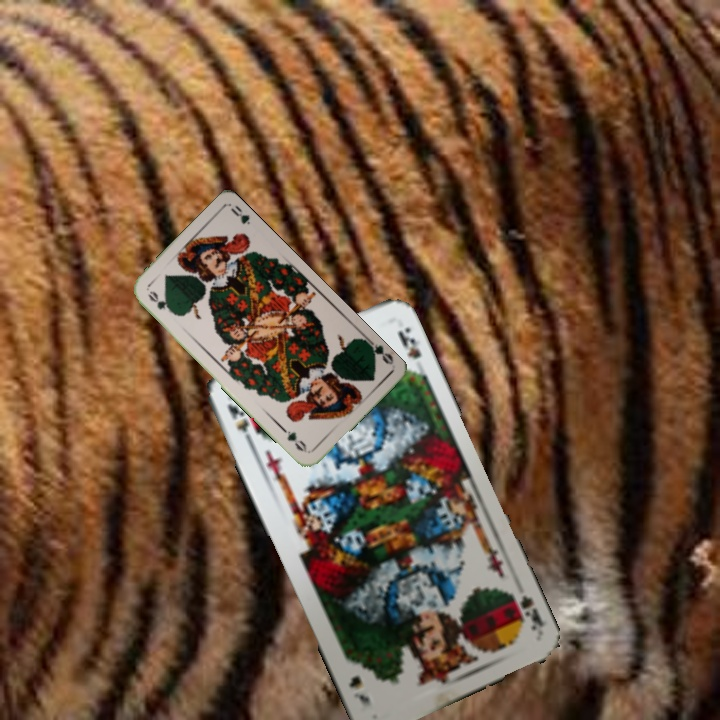GO: (361, 334, 396, 367), (144, 287, 177, 317)
SK: (504, 587, 548, 633), (223, 400, 258, 450)
